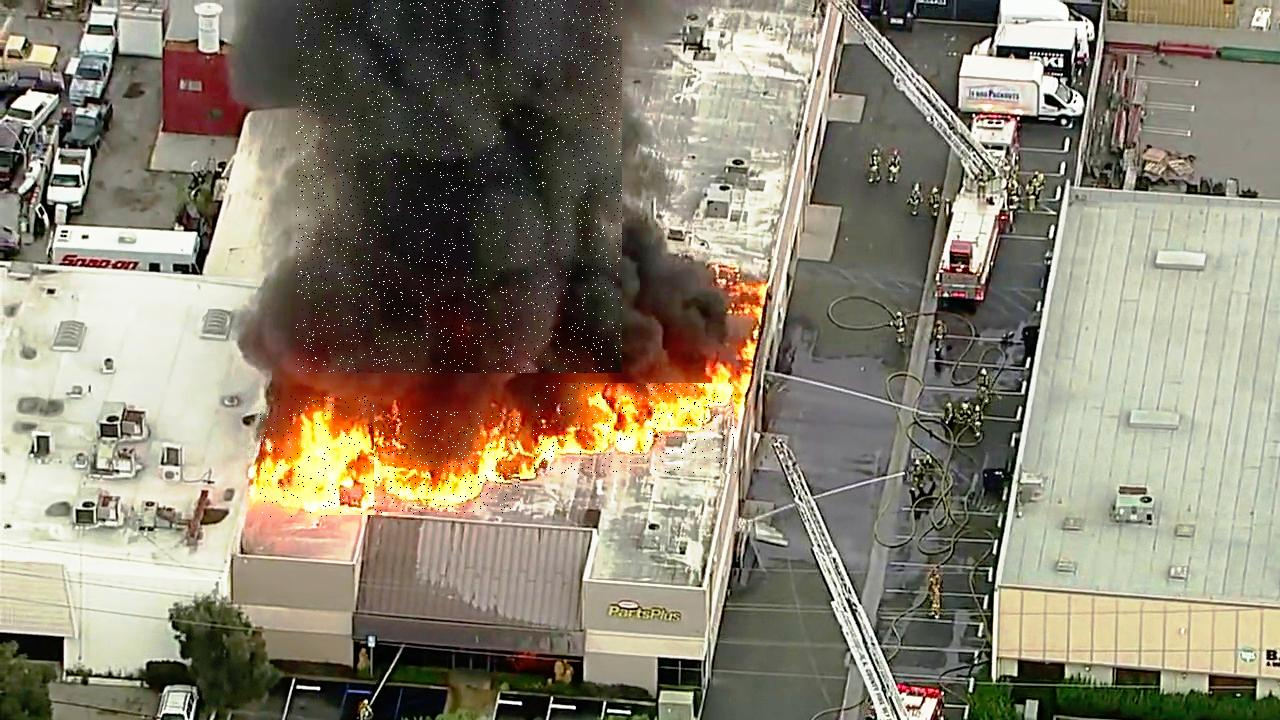fire: (533, 384, 737, 475), (374, 412, 520, 515), (260, 397, 382, 518)
smoke: (296, 0, 622, 373)
